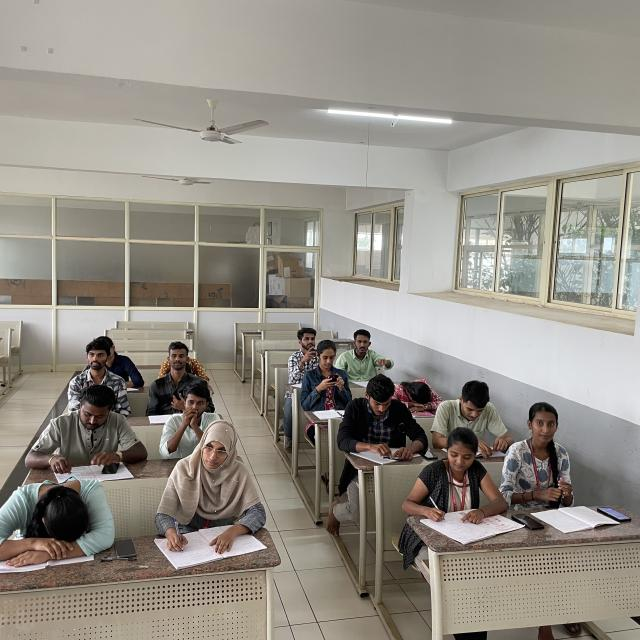Reading: (22, 383, 146, 475), (343, 371, 425, 470), (426, 379, 512, 457)
Sleeping: (0, 467, 116, 569), (390, 376, 445, 413)
Using Phone: (300, 338, 351, 406)
Writing: (156, 419, 265, 553), (403, 427, 490, 534)
